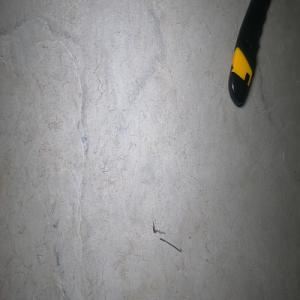Cutter: (227, 0, 270, 109)
